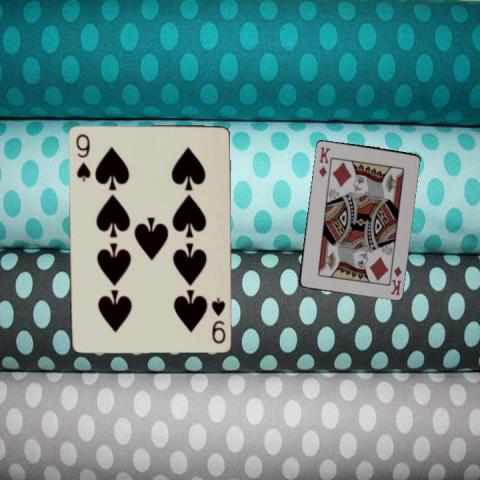9s: (73, 131, 92, 182), (208, 294, 227, 344)
Kd: (316, 144, 332, 178), (387, 263, 403, 297)
